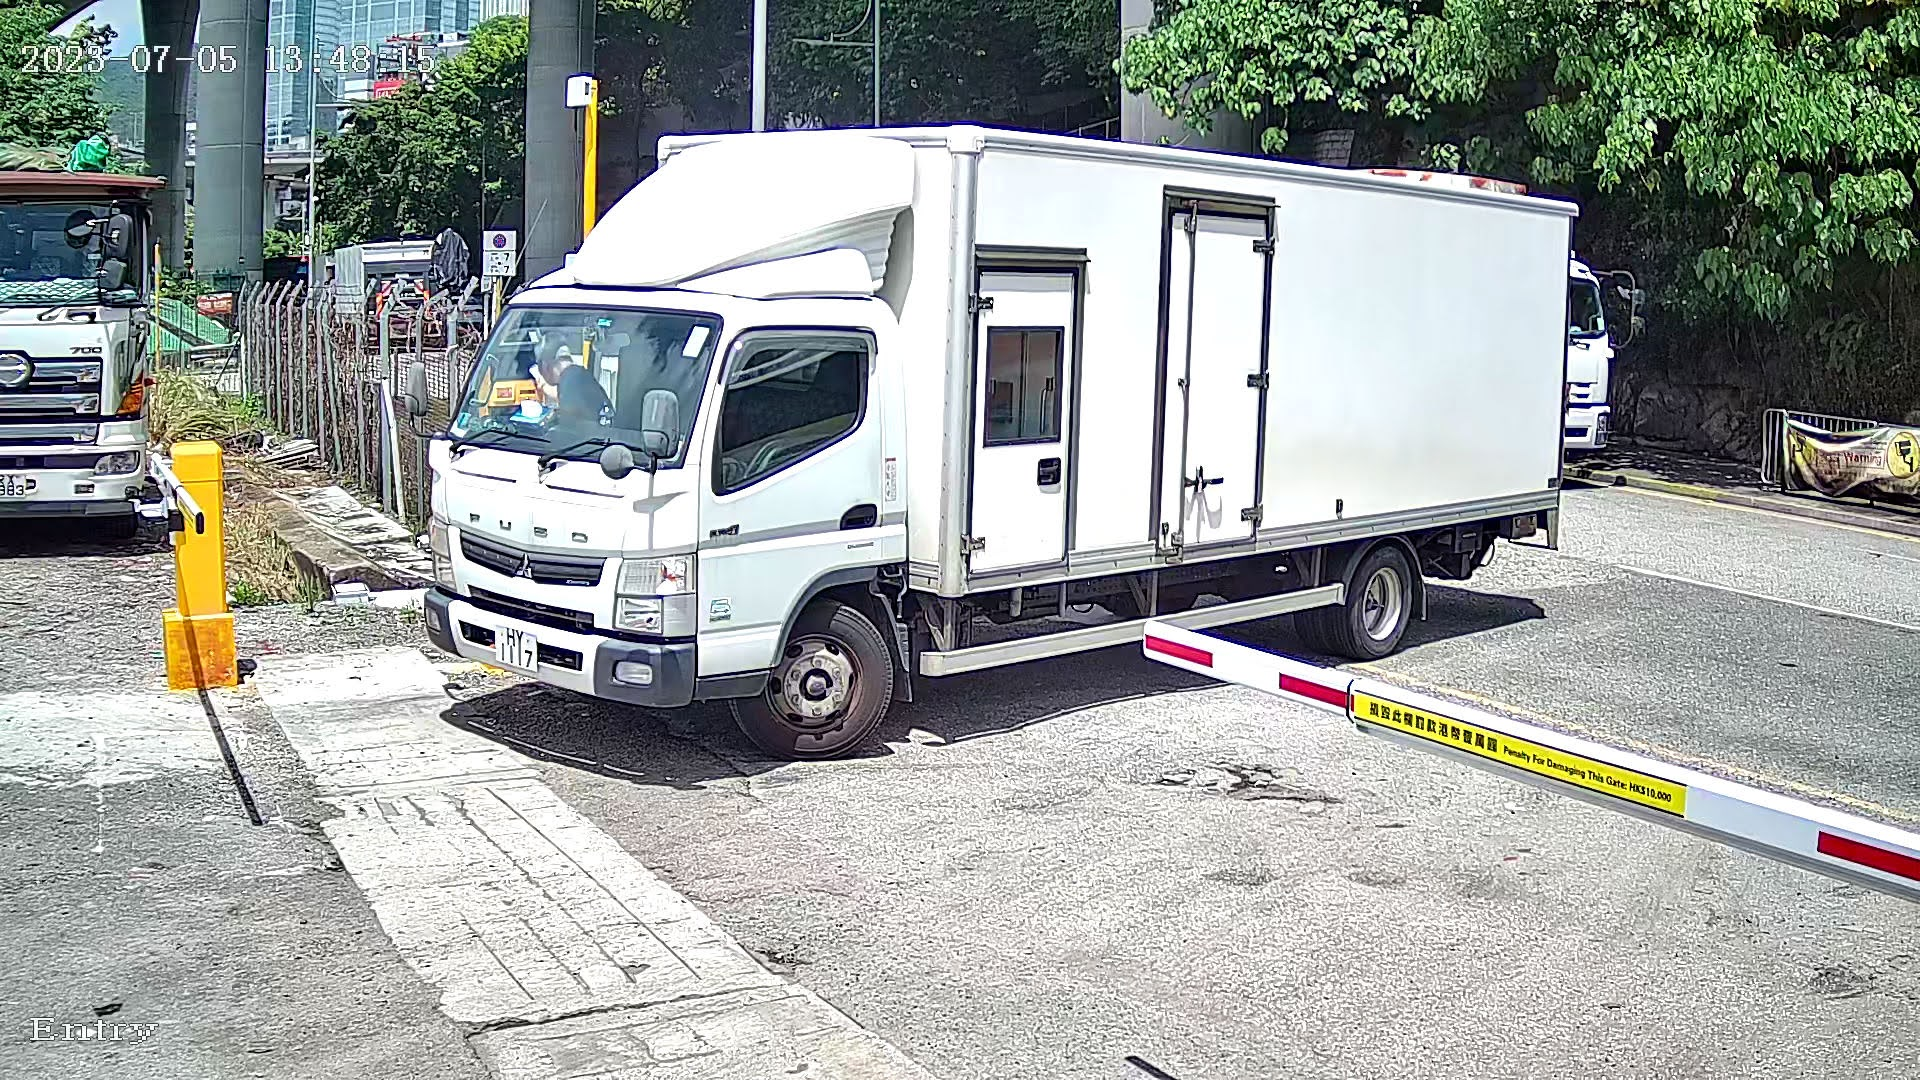truck_small: (393, 88, 1647, 804)
